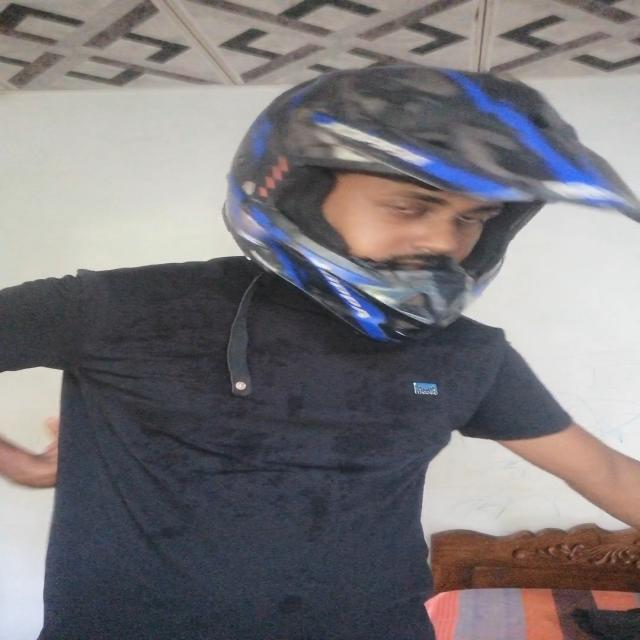Helmet_Wearer: (188, 57, 624, 360)
Person: (4, 58, 640, 640)
